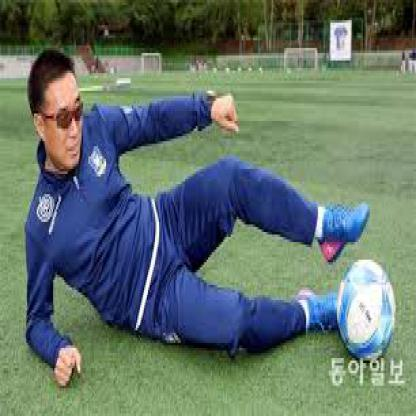Fall_Down: (22, 46, 372, 393)
